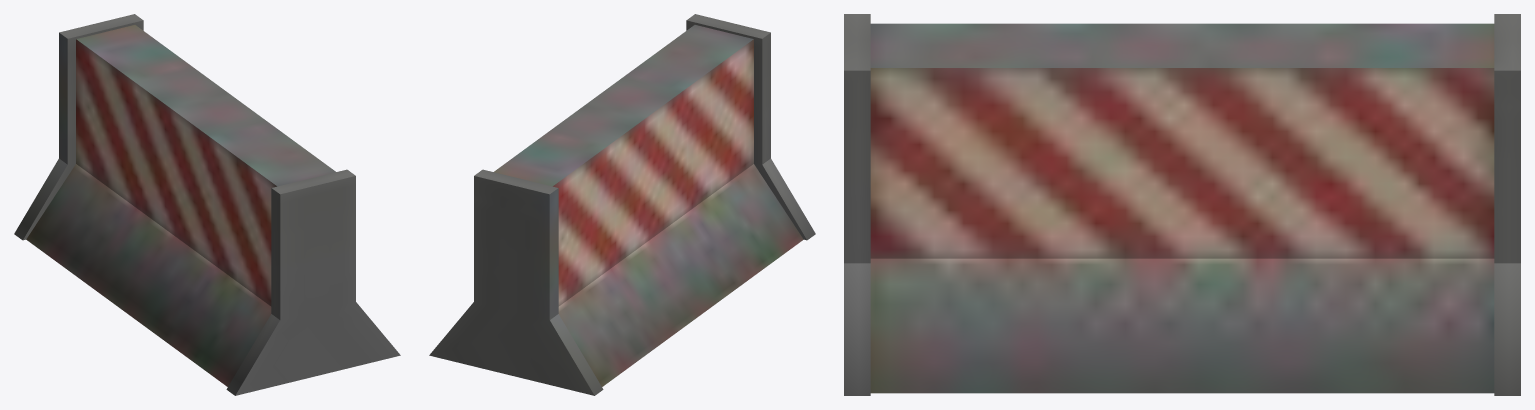
The model's file is 红白纹路障.glb.
3 renders of one model, left to right at view 1: azimuth 30°, elevation 25°; view 2: azimuth 150°, elevation 25°; view 3: azimuth 270°, elevation 25°, orthographic. The views are drawn at different scales.
Visible parts, largest first — view 1: polySurface3; view 2: polySurface3; view 3: polySurface3.
Boxes of the visible parts, left/top/right/bottom form: polySurface3: left=14, top=14, right=400, bottom=395; polySurface3: left=429, top=14, right=815, bottom=395; polySurface3: left=844, top=14, right=1520, bottom=395.
Size of the model in its own units: 2.38 by 2.62 by 5.51.
Materials: 1 (1 with a texture image).
